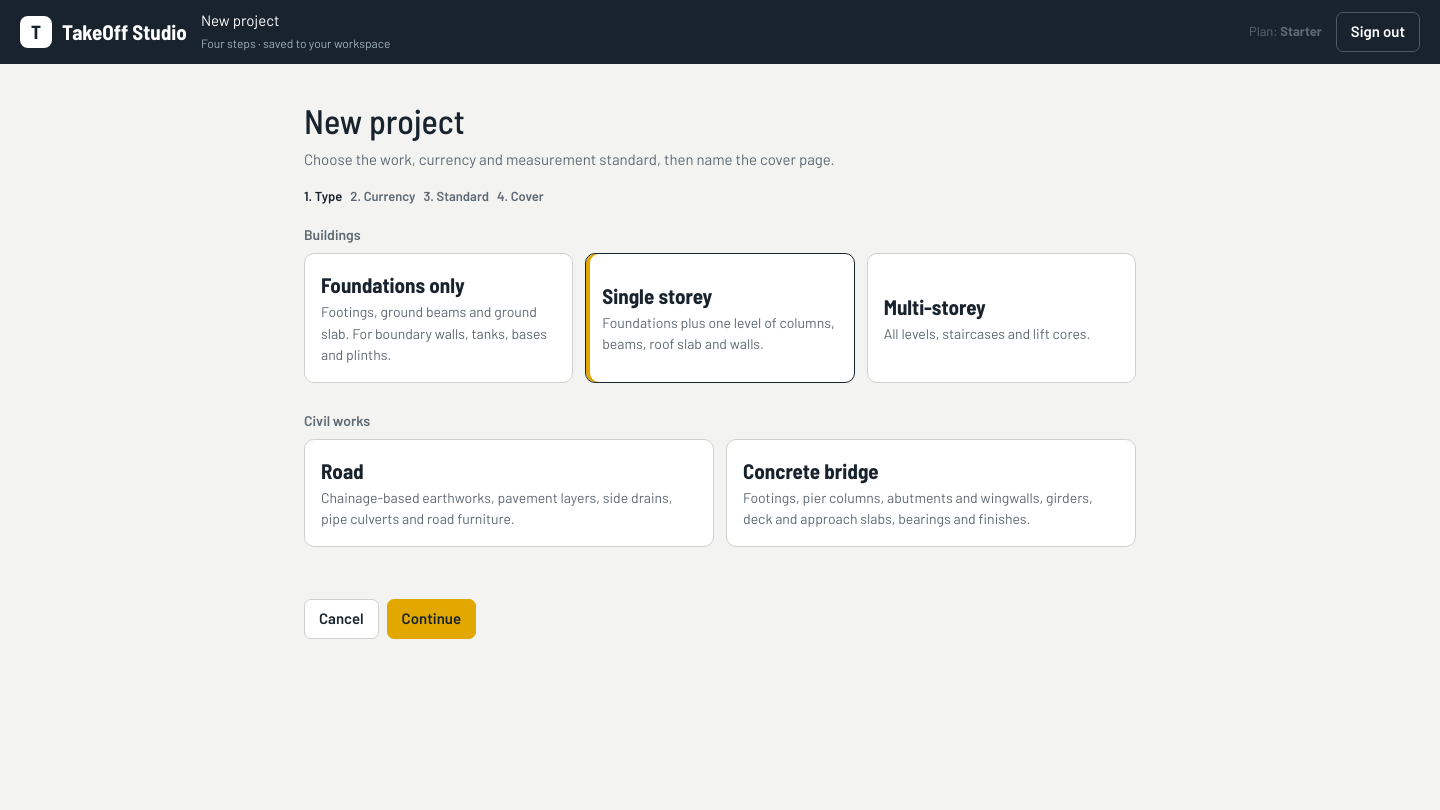
Test: new project wizard › offers every project type and continues with a single-storey job
This screenshot has width=1440, height=810.
Expected: the button "Multi-storey All levels, staircases and lift cores." is enabled, [867,253,1136,383]
Expected: the button "Road" is enabled, [304,439,714,547]
Step 1. Click the button "Single storey" → click(720, 318), box [585,253,855,383]
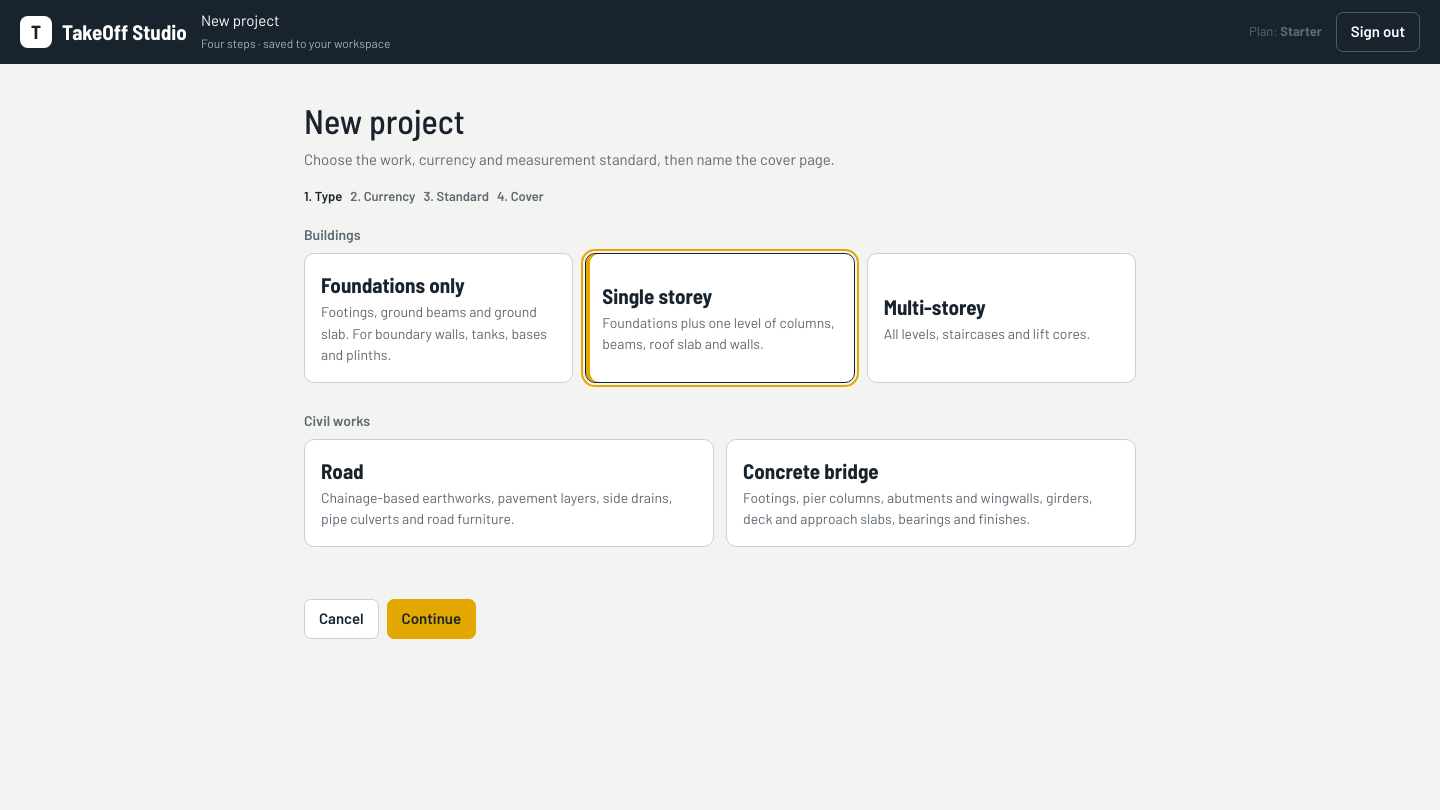
Step 2. Click the button "Continue" → click(431, 619), box [387,599,476,639]
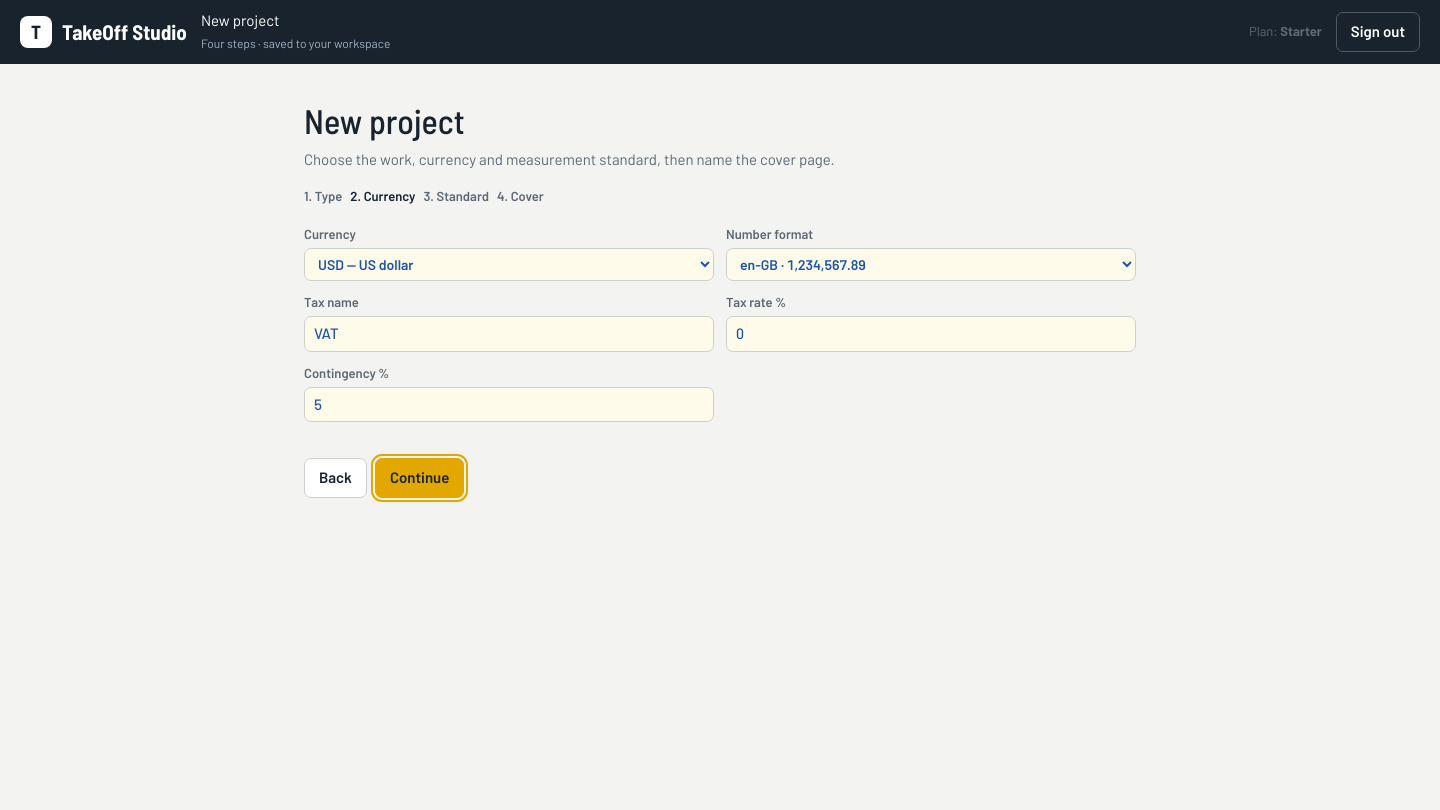
Result: the dropdown labelled "Currency" is shown at [305,249,713,280]
